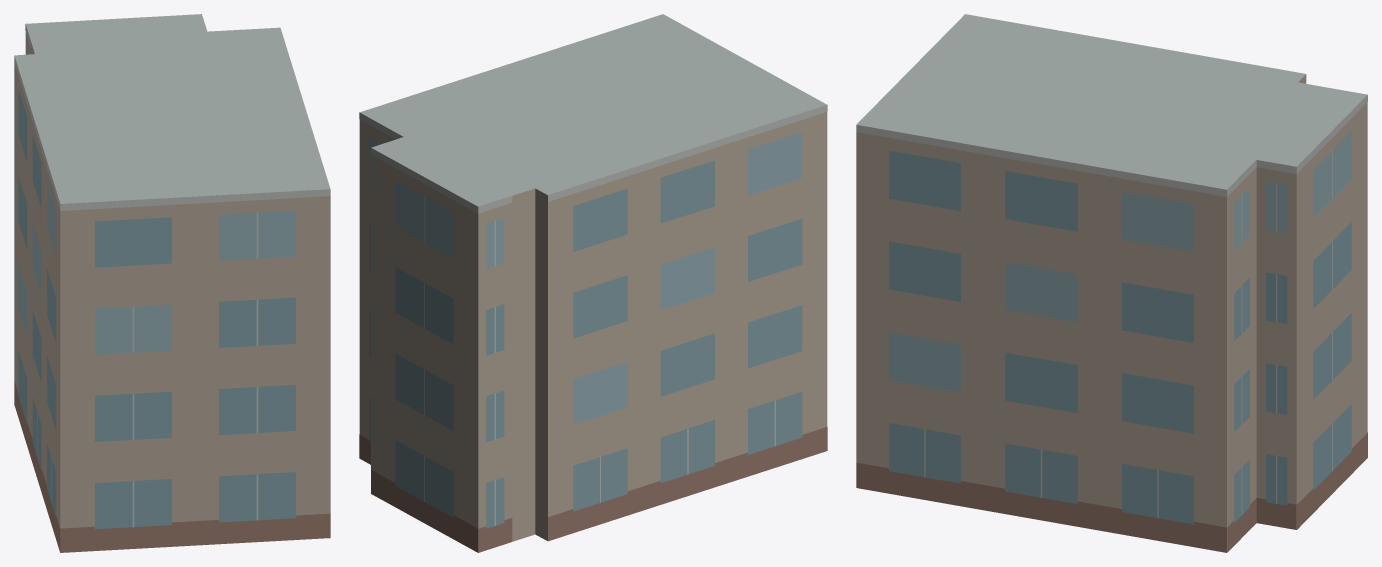
The model's file is residential-9fb1253c-78c3-40f1-8f5f-41e1a9422906.glb.
3 renders of one model, left to right at view 1: azimuth 30°, elevation 25°; view 2: azimuth 150°, elevation 25°; view 3: azimuth 270°, elevation 25°, orthographic. The views are drawn at different scales.
Parts seen in each view (by area): view 1: residential-9fb1253c-78c3-40f1-8f5f-41e1a9422906.tmp; view 2: residential-9fb1253c-78c3-40f1-8f5f-41e1a9422906.tmp; view 3: residential-9fb1253c-78c3-40f1-8f5f-41e1a9422906.tmp.
Boxes of the visible parts, <box> form: residential-9fb1253c-78c3-40f1-8f5f-41e1a9422906.tmp: <box>14,14,330,552</box>; residential-9fb1253c-78c3-40f1-8f5f-41e1a9422906.tmp: <box>359,14,827,552</box>; residential-9fb1253c-78c3-40f1-8f5f-41e1a9422906.tmp: <box>856,14,1367,552</box>.
Size of the model in its own units: 12.67 by 12.2 by 15.58.
